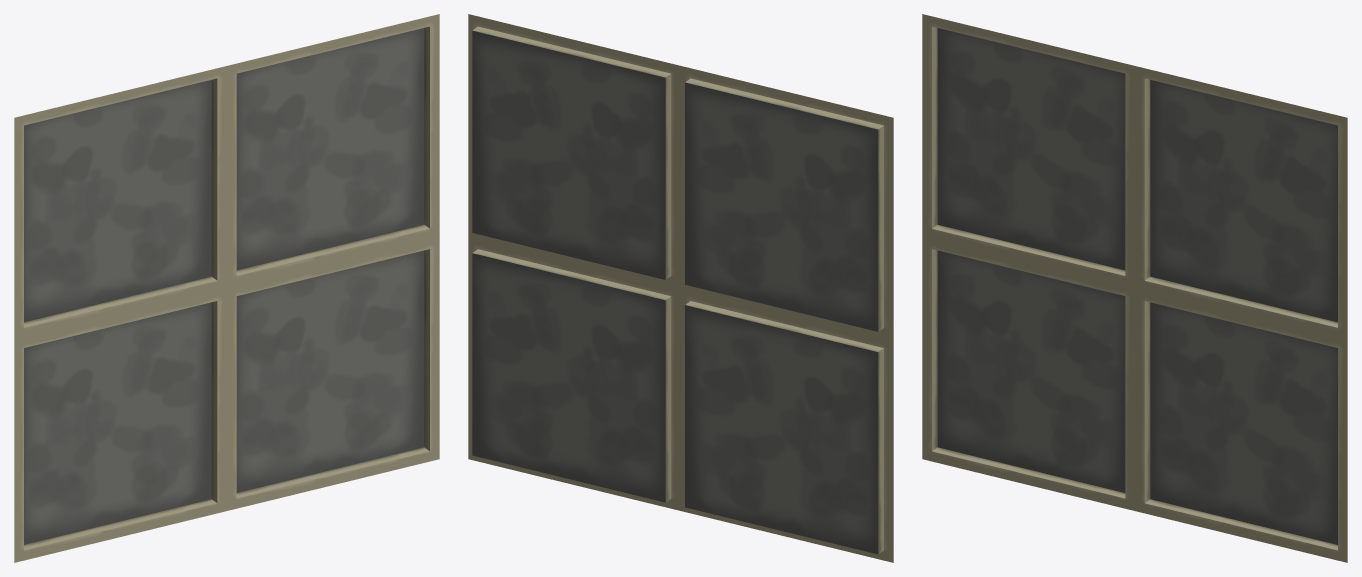
Rendered from TempleWall2x2.obj.
The picture shows the model from 3 angles, left to right: view 1: azimuth 30°, elevation 25°; view 2: azimuth 150°, elevation 25°; view 3: azimuth 330°, elevation 25°; orthographic projection.
Visible parts, largest first — view 1: 2x2; view 2: 2x2; view 3: 2x2.
Part boxes in pixels (x1,y1,x2,y2): 2x2: (14,14,439,562); 2x2: (468,14,893,562); 2x2: (922,14,1347,562).
Size of the model in its own units: 44 by 44 by 1.
1 material, 1 textured.
